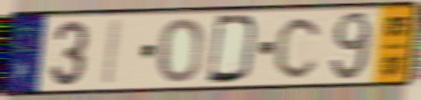3: (46, 18, 89, 88)
9: (328, 9, 375, 83)
C: (272, 14, 326, 81)
D: (205, 13, 262, 86)
I: (101, 17, 124, 87)
O: (157, 16, 204, 85)
